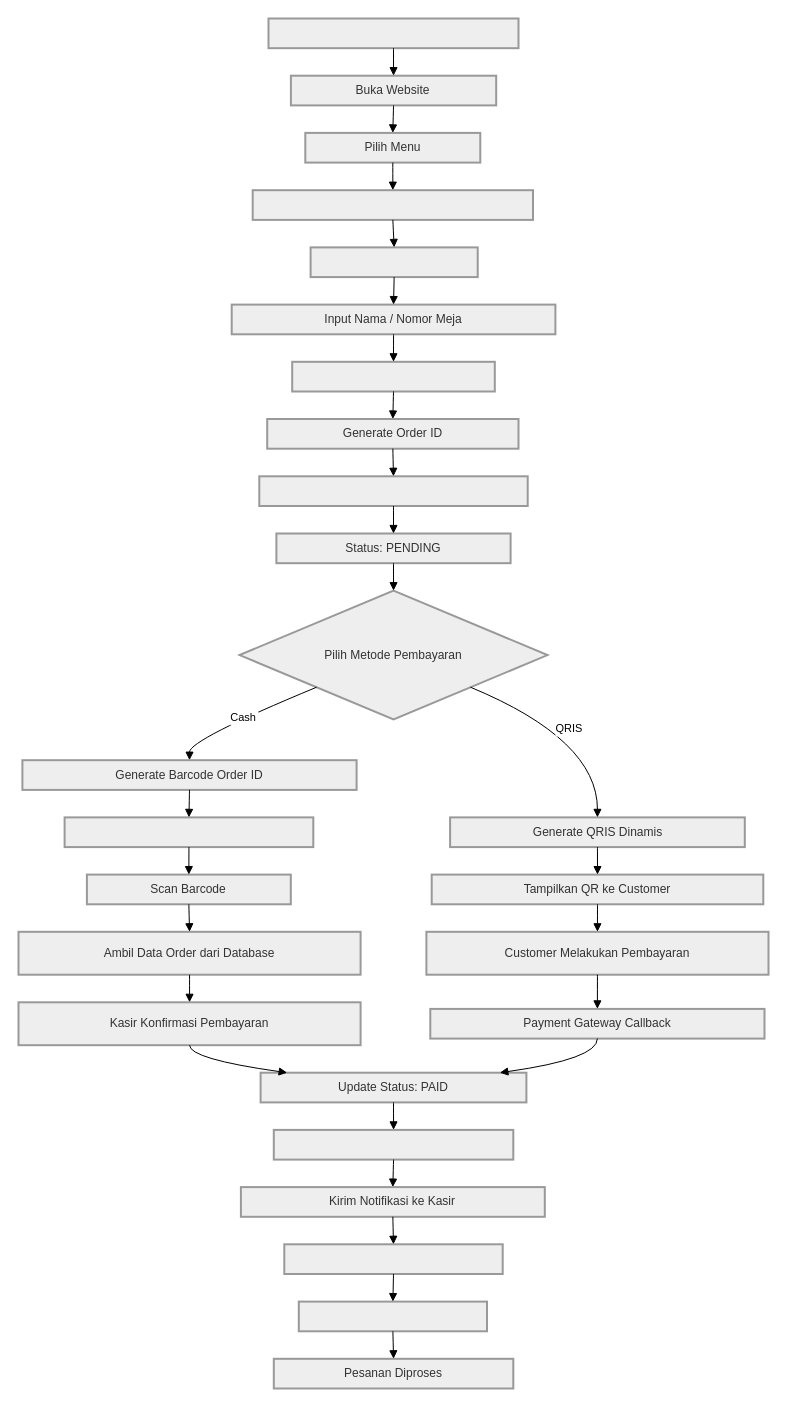
The diagram is 786 pixels wide and 1406 high, and some of its shapes have lost their labels. Each missing label, with the box of its shape:
Cetak Struk: (297, 1300, 488, 1332)
Checkout: (309, 246, 478, 278)
Create Order: (291, 360, 495, 392)
Customer ke Kasir: (63, 816, 314, 848)
Customer Scan QR: (267, 17, 519, 49)
Kirim ke Dapur: (283, 1243, 503, 1274)
Simpan ke Database: (258, 475, 528, 506)
Tambah ke Keranjang: (251, 189, 534, 220)
Update Database: (272, 1128, 514, 1160)
